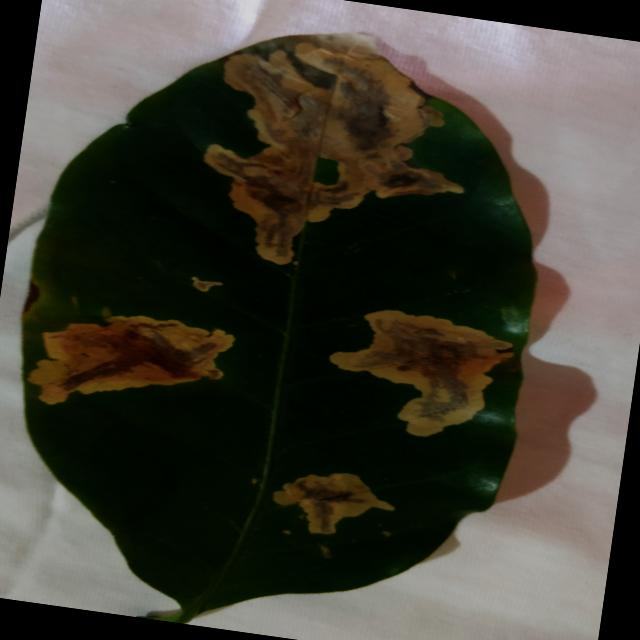KaratDaunKopi: (204, 34, 464, 265), (330, 310, 513, 437), (28, 316, 235, 405), (273, 473, 395, 534), (192, 276, 223, 292)
